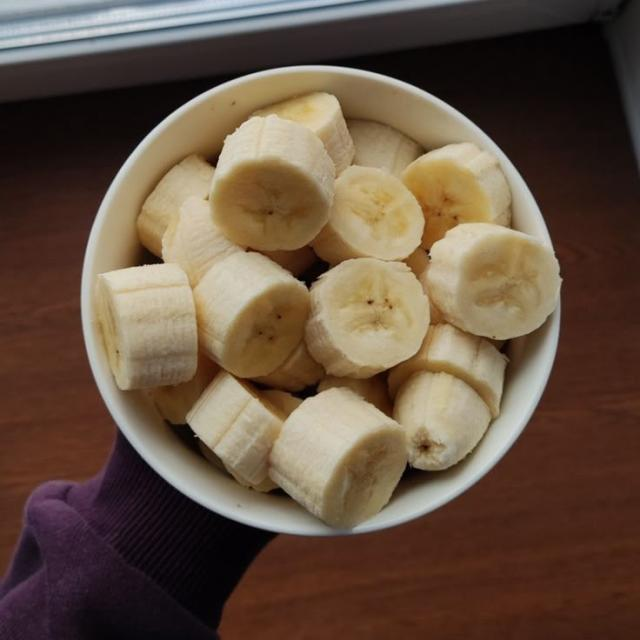banana slice: (269, 388, 406, 528), (210, 115, 334, 250), (427, 223, 560, 339), (306, 259, 429, 378), (194, 253, 309, 377), (95, 264, 198, 390), (403, 143, 511, 248), (187, 371, 285, 486), (312, 166, 424, 264), (388, 325, 506, 417), (394, 372, 491, 470), (254, 93, 354, 174), (137, 154, 214, 257), (162, 197, 245, 286), (152, 354, 219, 424), (347, 119, 424, 177), (198, 440, 277, 493), (254, 340, 324, 391), (318, 375, 393, 415), (261, 246, 319, 278), (418, 264, 446, 324), (260, 390, 302, 416), (404, 247, 428, 279)
